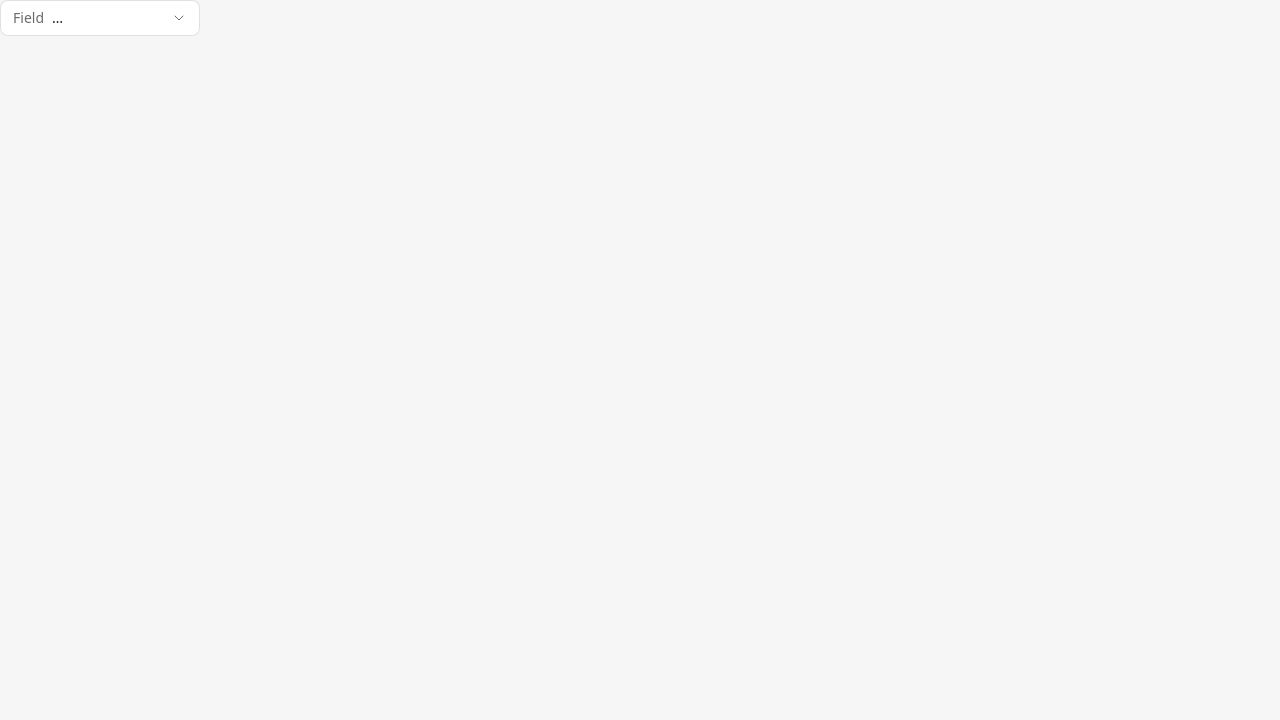
FieldPicker › shows the error message when the list could not load
Click the button "Field …" at (100, 18), box [0,0,200,36]
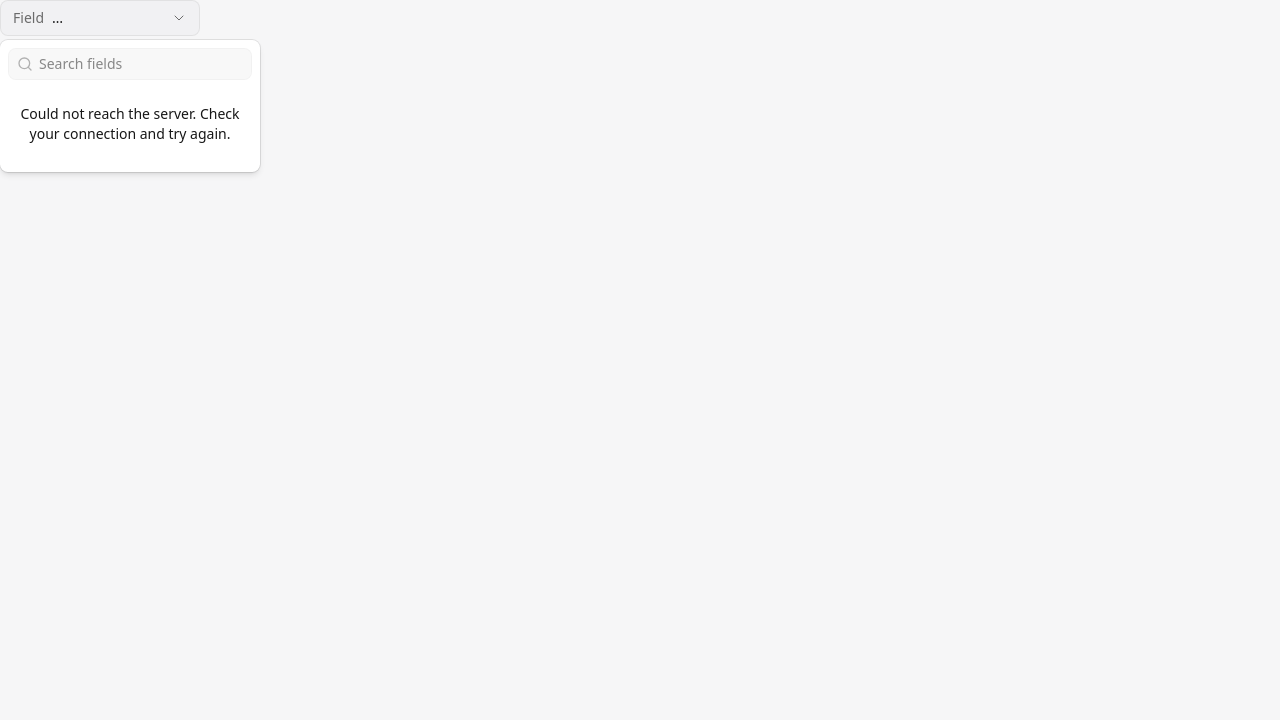
Result: the text "Could not reach the server" is shown at [20,104,240,143]
